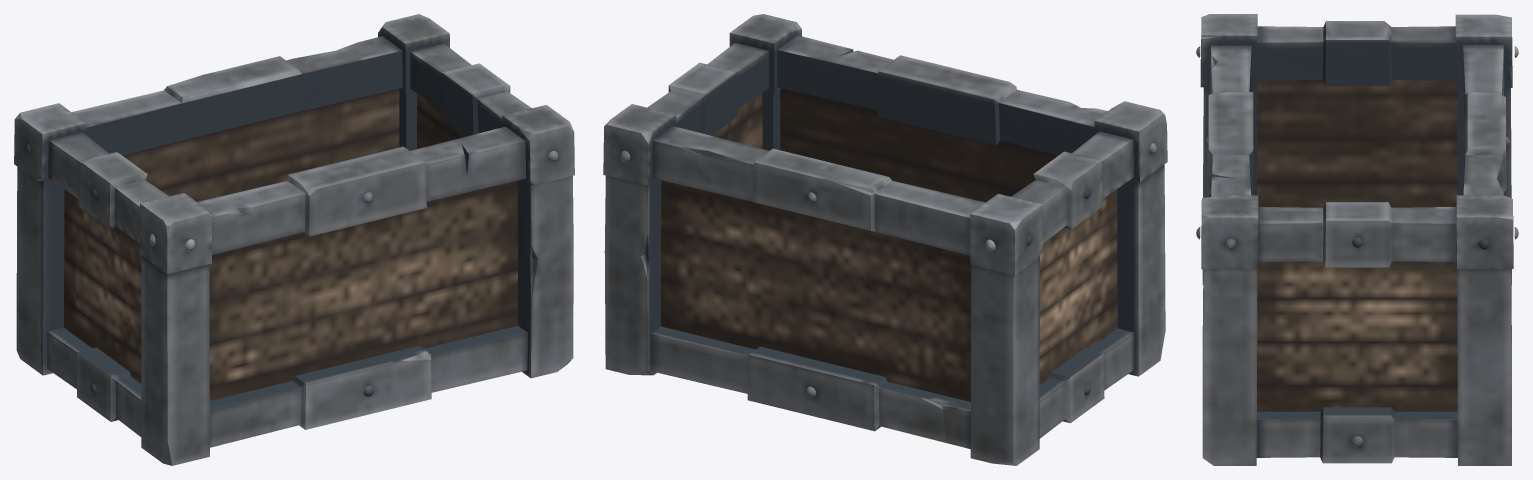
Rendered from Props_01_Treasure_Box_Unity.FBX.
3 views of the same model, side by side, from view 1: azimuth 30°, elevation 25°; view 2: azimuth 150°, elevation 25°; view 3: azimuth 270°, elevation 25° (orthographic). The views are drawn at different scales.
Parts seen in each view (by area): view 1: Props_01_Treasure_Box_Unity; view 2: Props_01_Treasure_Box_Unity; view 3: Props_01_Treasure_Box_Unity.
Boxes of the visible parts, x1,y1,x2,y2 form: Props_01_Treasure_Box_Unity: (14,14,574,465); Props_01_Treasure_Box_Unity: (603,14,1167,465); Props_01_Treasure_Box_Unity: (1196,14,1518,465).
Bounding box in the file's own units: 69.62 × 39.29 × 46.04.
1 material, 1 textured.
